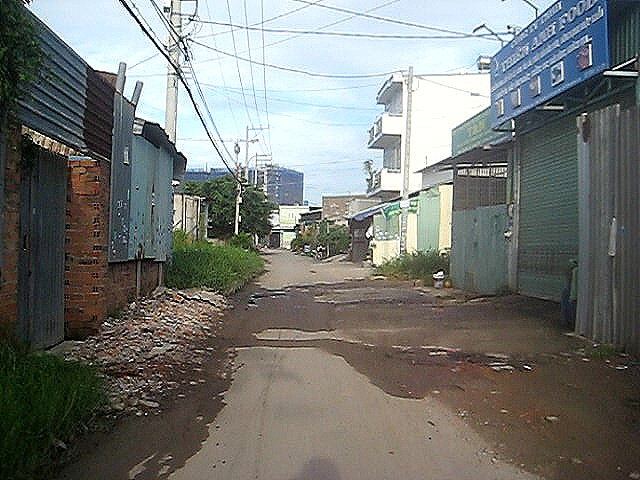hole: (336, 349, 455, 398), (288, 276, 365, 295), (247, 289, 287, 307)
